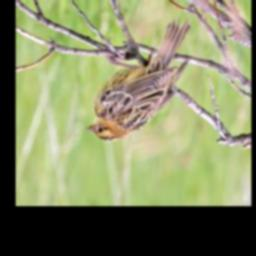Sparrow: (85, 17, 192, 142)
